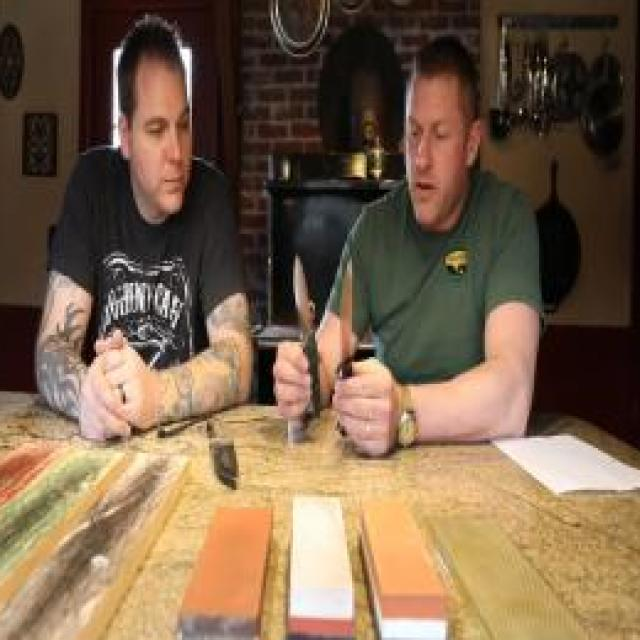knife: (330, 246, 396, 410), (273, 246, 325, 393)
